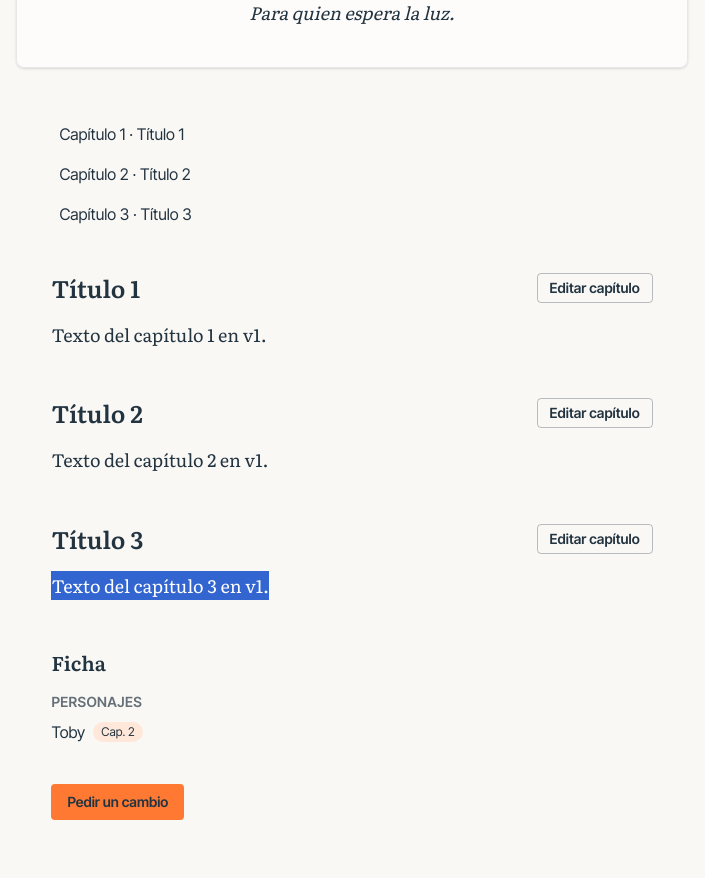
Test: 027 cambio del lector › 027-C01: selecting a fragment in a chapter and asking for a change opens the request form
(page scrolled)
Click the button "Pedir un cambio". click: coordinates (118, 802)
box: 51,784 -> 184,820
(page scrolled)
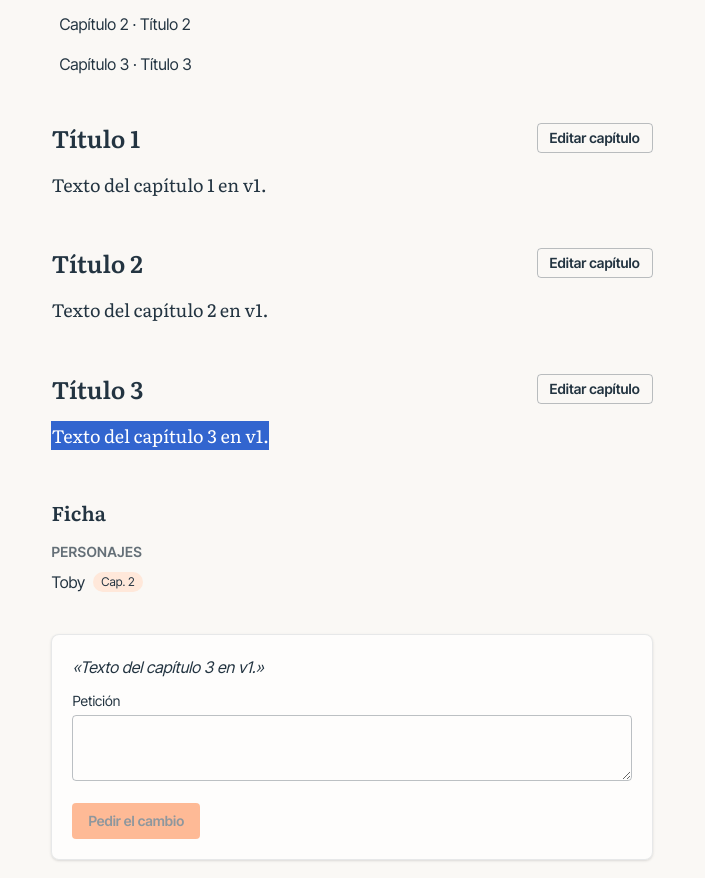
Result: the text "Texto del capítulo 3 en v1." is shown at 80,657 -> 256,677
Result: the text box labelled "Petición" is empty at 72,715 -> 632,781
